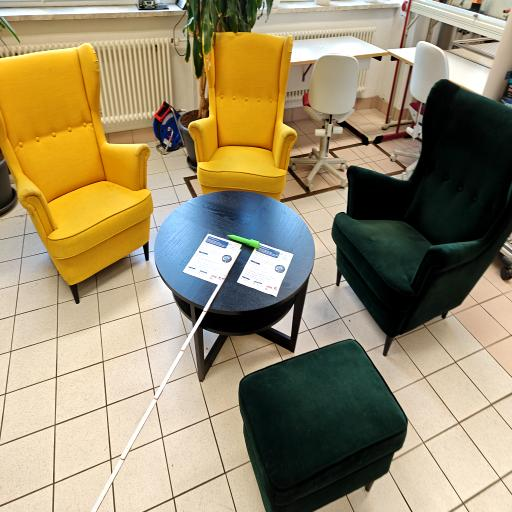Probe-Detection: (228, 235, 260, 248)
